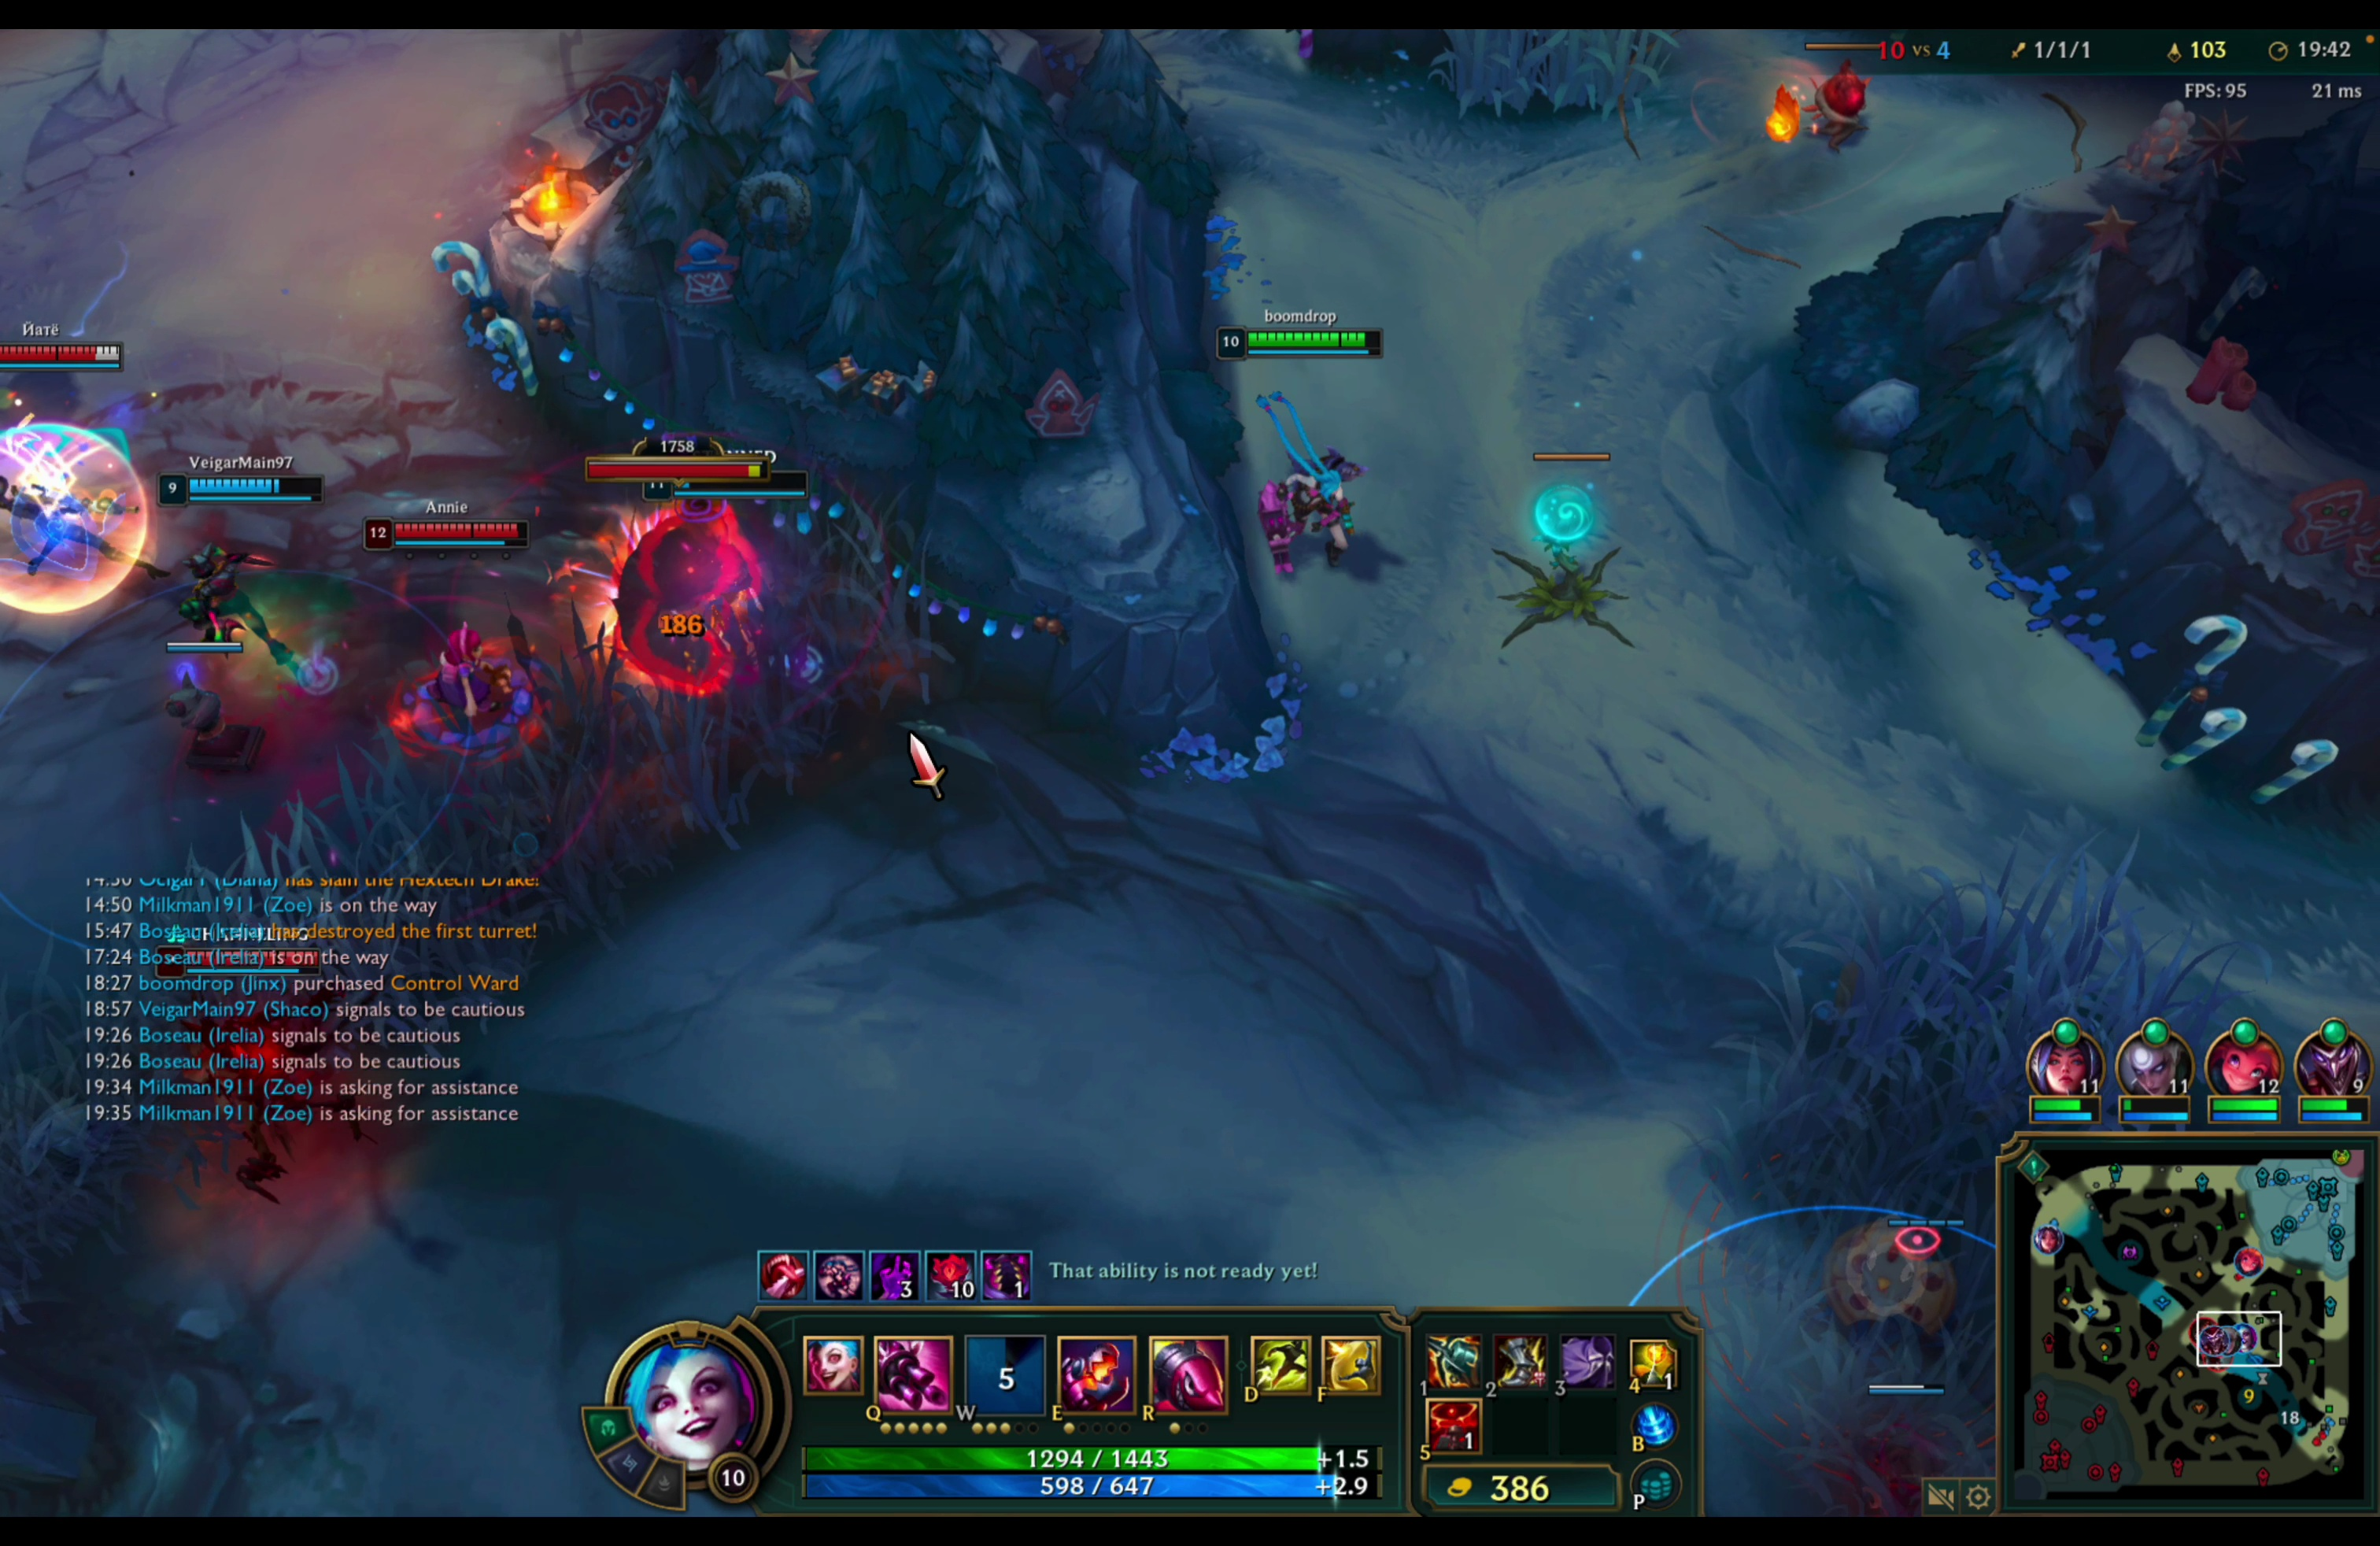JINX_W_IMPACT: (534, 437, 847, 736)
